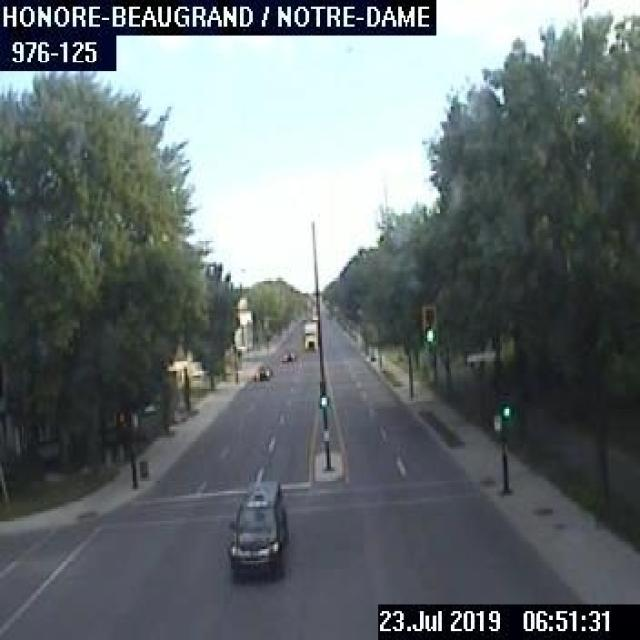vehicle: (224, 482, 290, 577), (302, 320, 316, 350), (252, 362, 270, 379), (279, 346, 295, 361)
